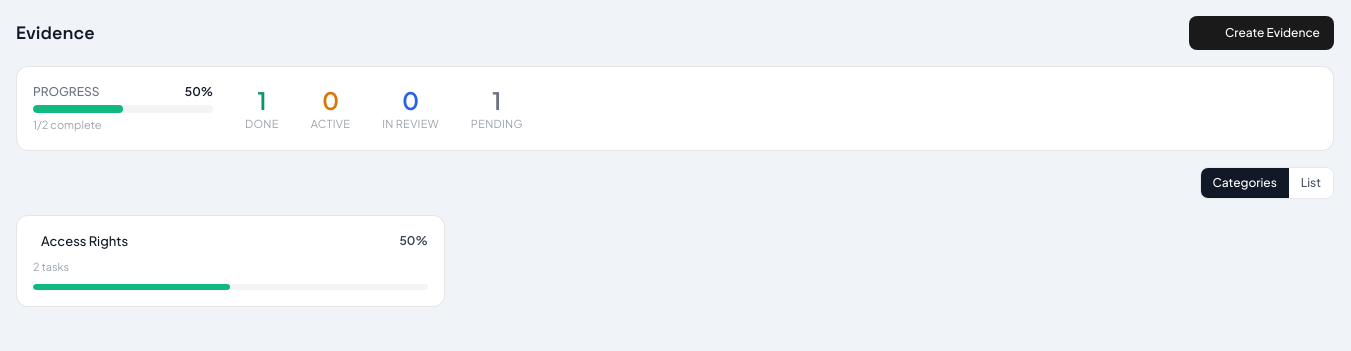
Test case: Soc2ProgramPage write actions › groups evidence into category cards and drills into a category
Check: the text "50%" next to "PROGRESS" is shown, box [185,83,213,101]
# Drilling in shows the individual task cards.
Click the text "Access Rights": click(85, 241) [41,232,128,251]
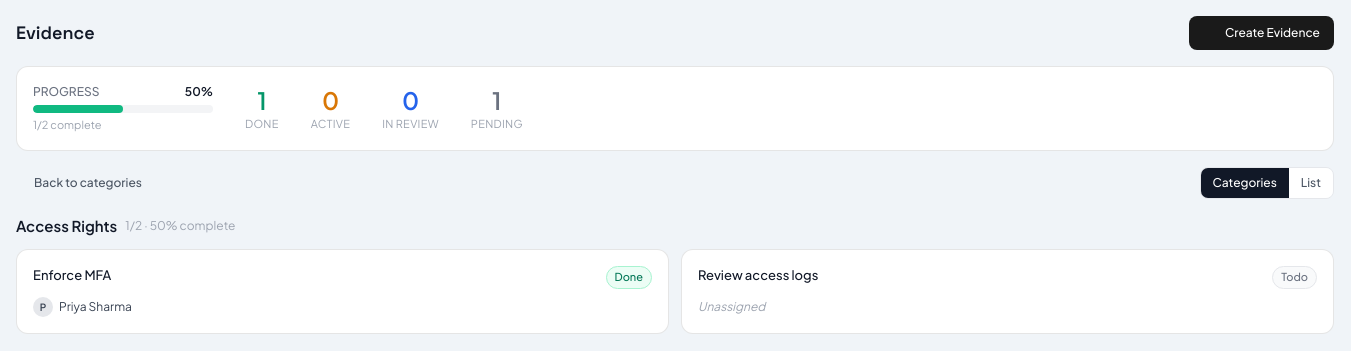
Check: the text "Enforce MFA" is shown, box [33,266,111,286]
Check: the text "Review access logs" is shown, box [698,266,818,286]
